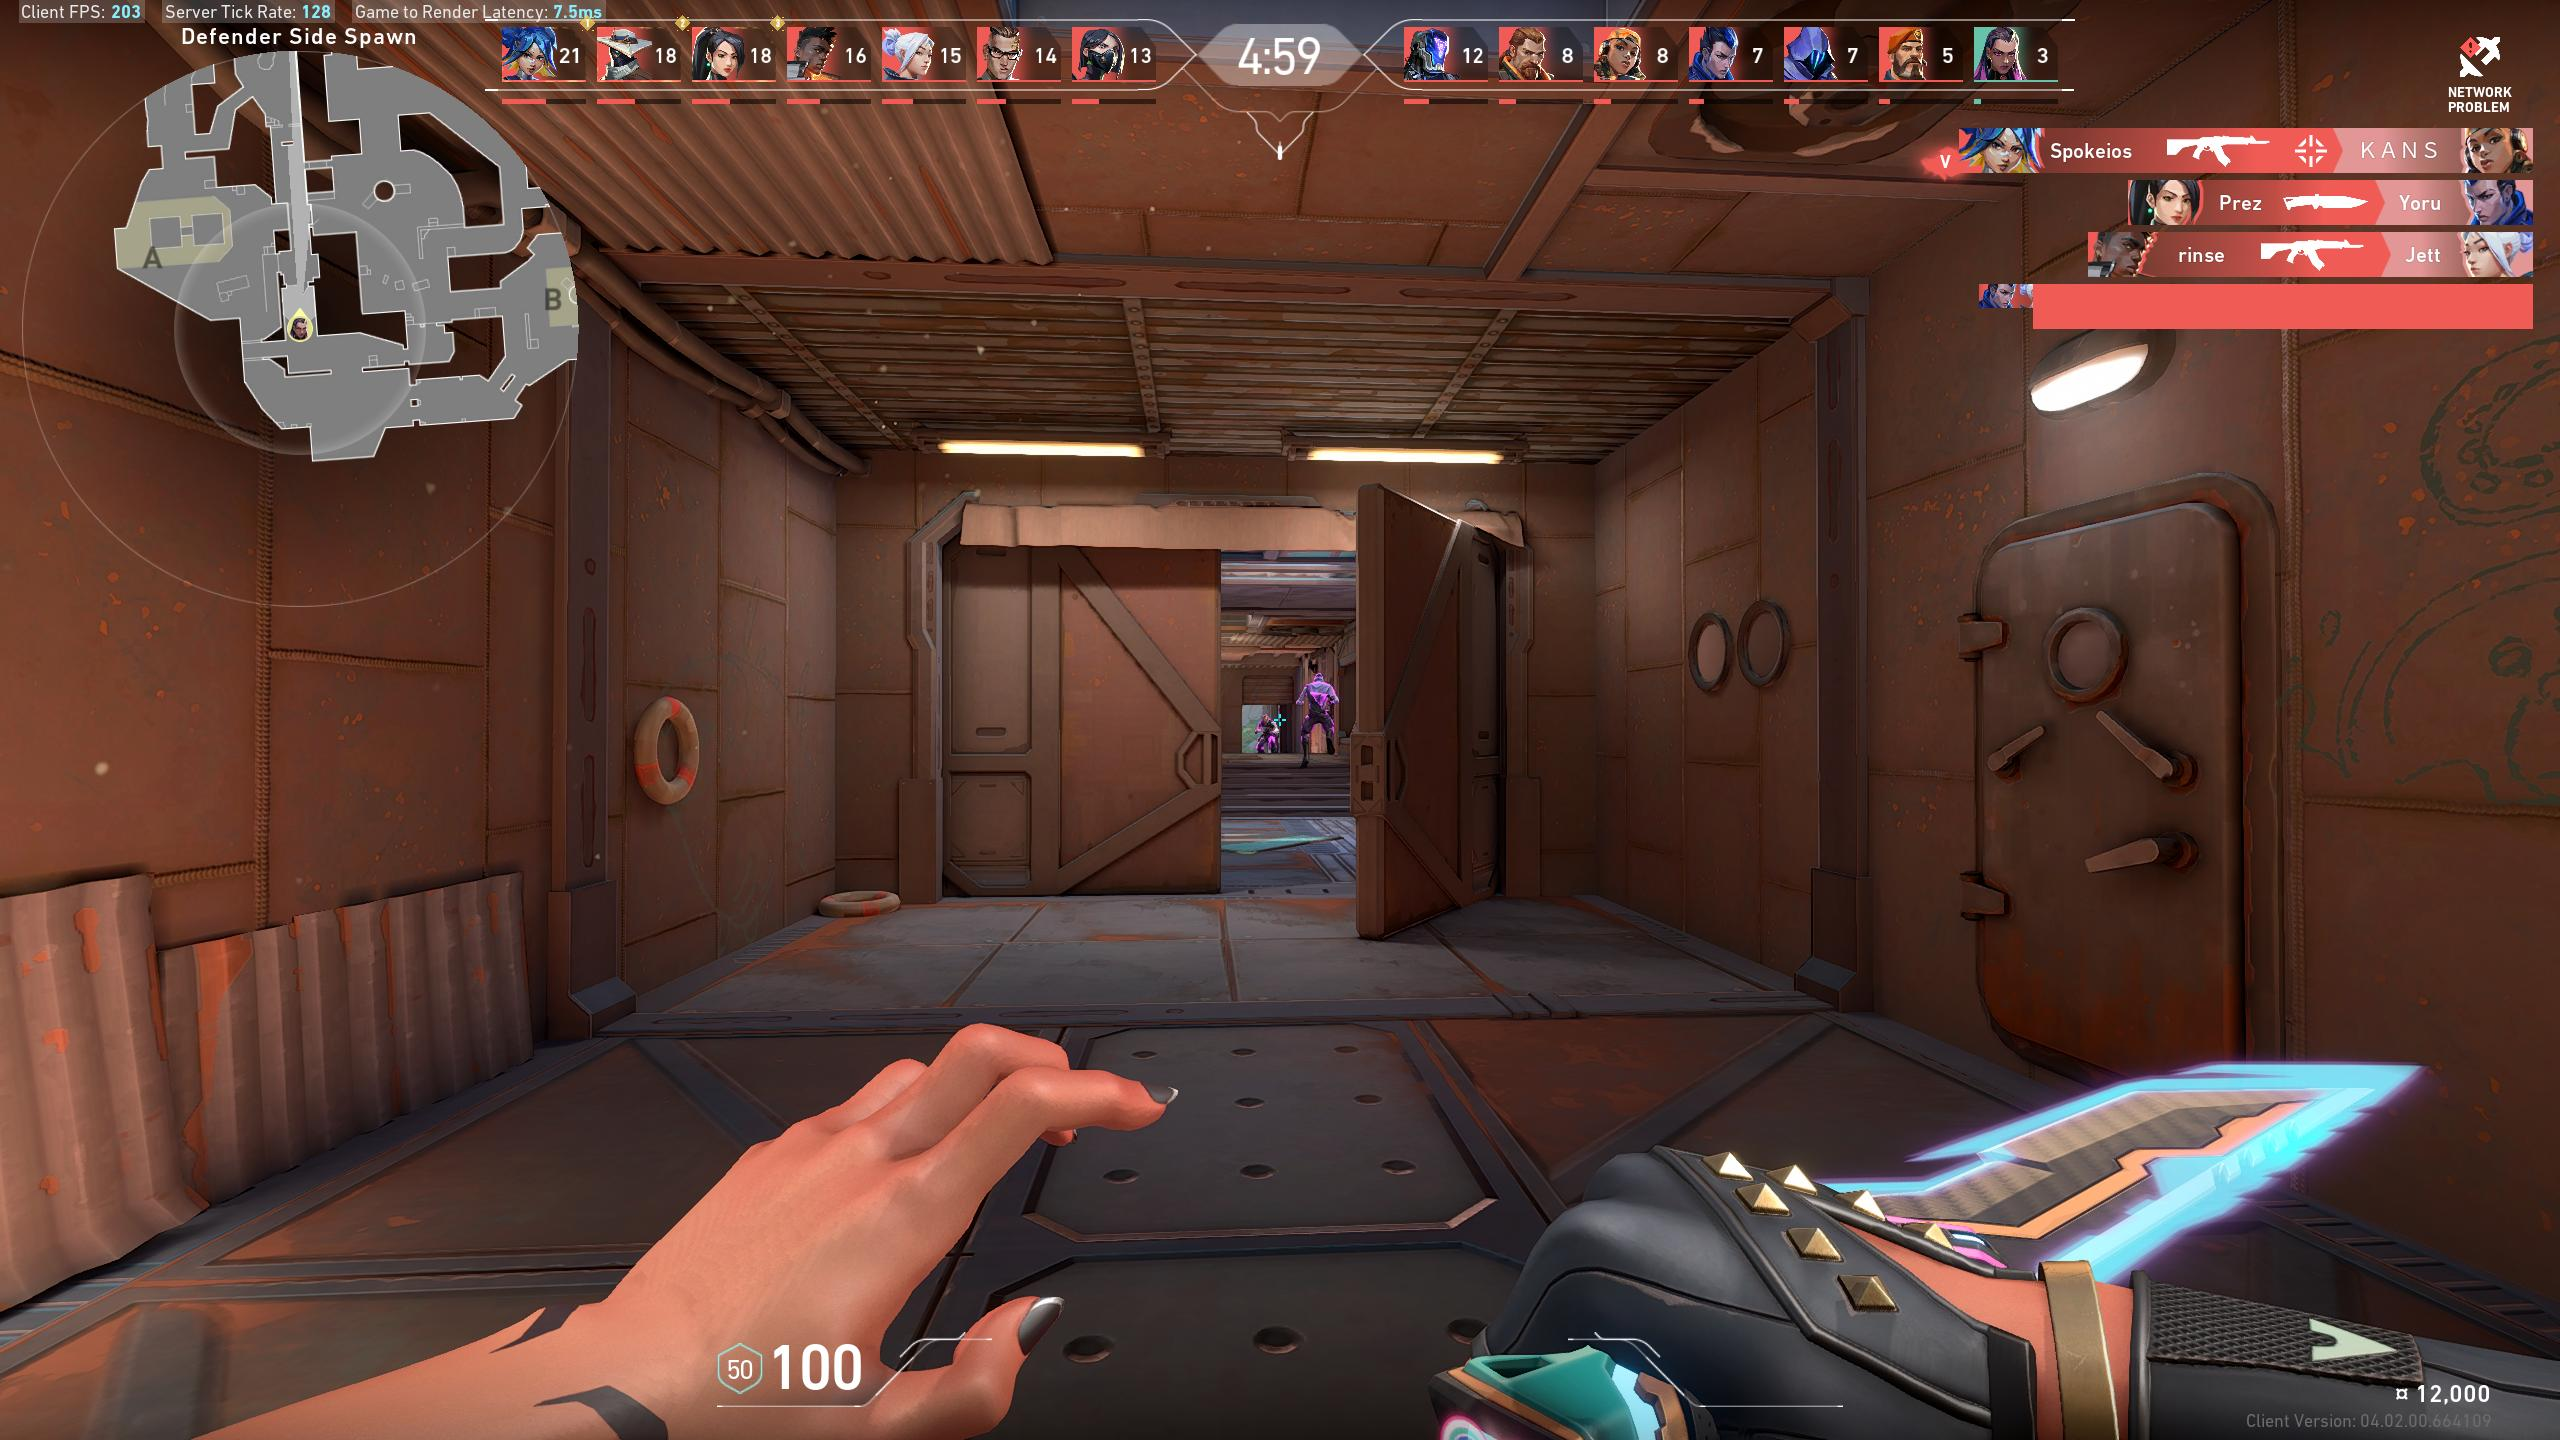enemyBody: (1312, 684, 1326, 707), (1262, 723, 1271, 735)
enemyHead: (1315, 675, 1322, 680), (1264, 716, 1268, 721)
